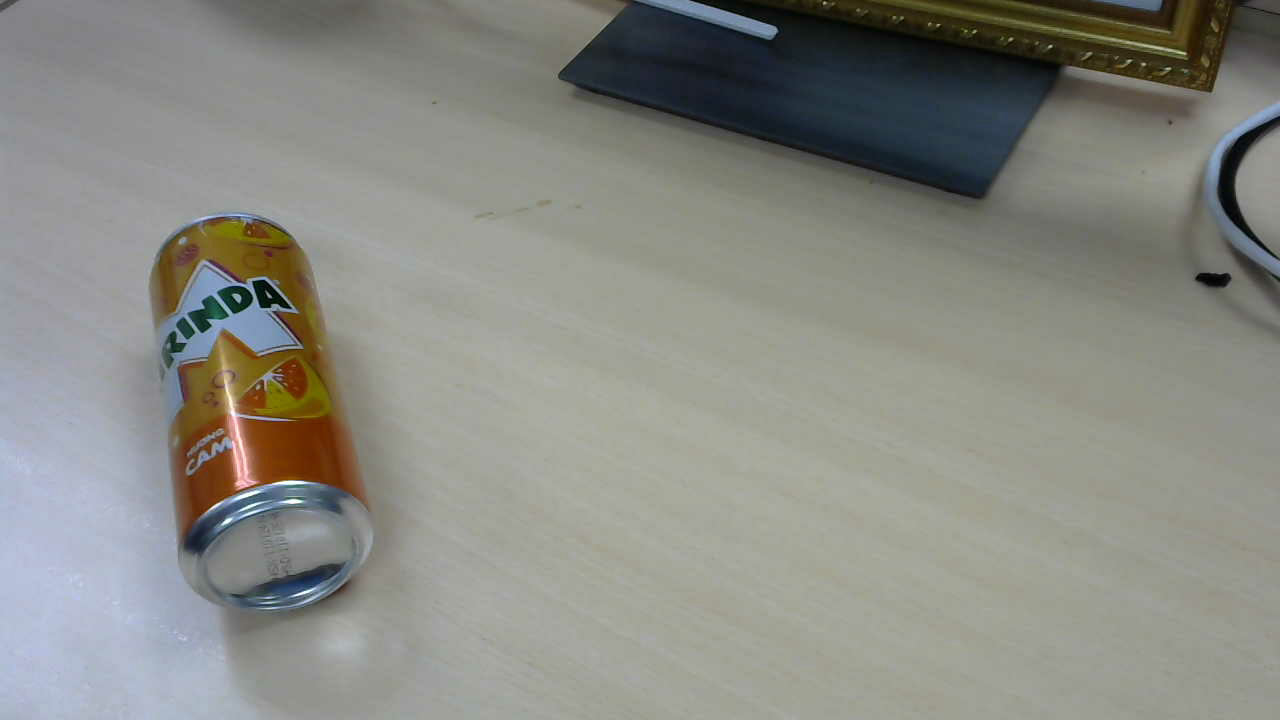Mirinda: (150, 221, 381, 615)
